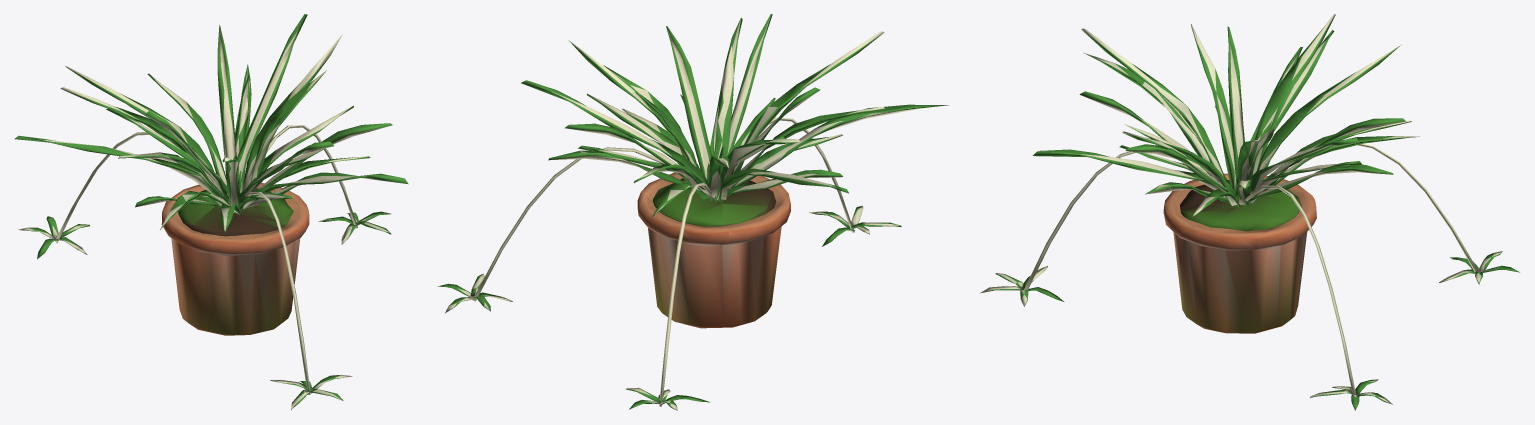
Rendered from canopy_spider_plant_lod1.glb.
The picture shows the model from 3 angles, left to right: view 1: azimuth 30°, elevation 25°; view 2: azimuth 150°, elevation 25°; view 3: azimuth 270°, elevation 25°; orthographic projection. The views are drawn at different scales.
Visible parts, largest first — view 1: canopy_spider_plant.001; view 2: canopy_spider_plant.001; view 3: canopy_spider_plant.001.
Boxes of the visible parts, x1=… form: canopy_spider_plant.001: x1=15, y1=14, x2=408, y2=410; canopy_spider_plant.001: x1=437, y1=14, x2=948, y2=410; canopy_spider_plant.001: x1=980, y1=14, x2=1519, y2=410.
Bounding box in the file's own units: 13.44 × 7.9 × 15.66.
